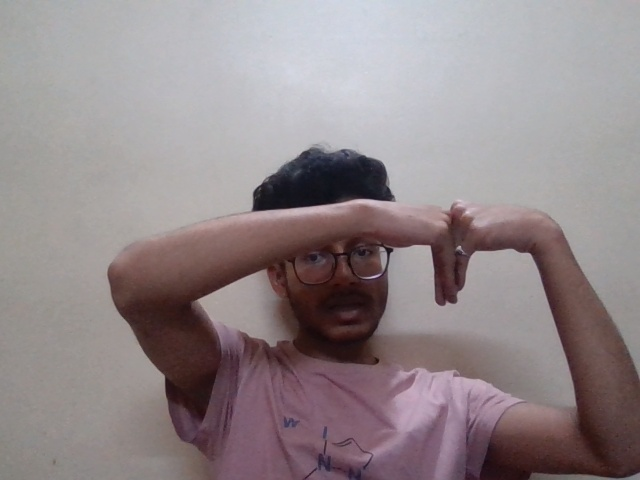yesterday: (360, 183, 534, 323)
